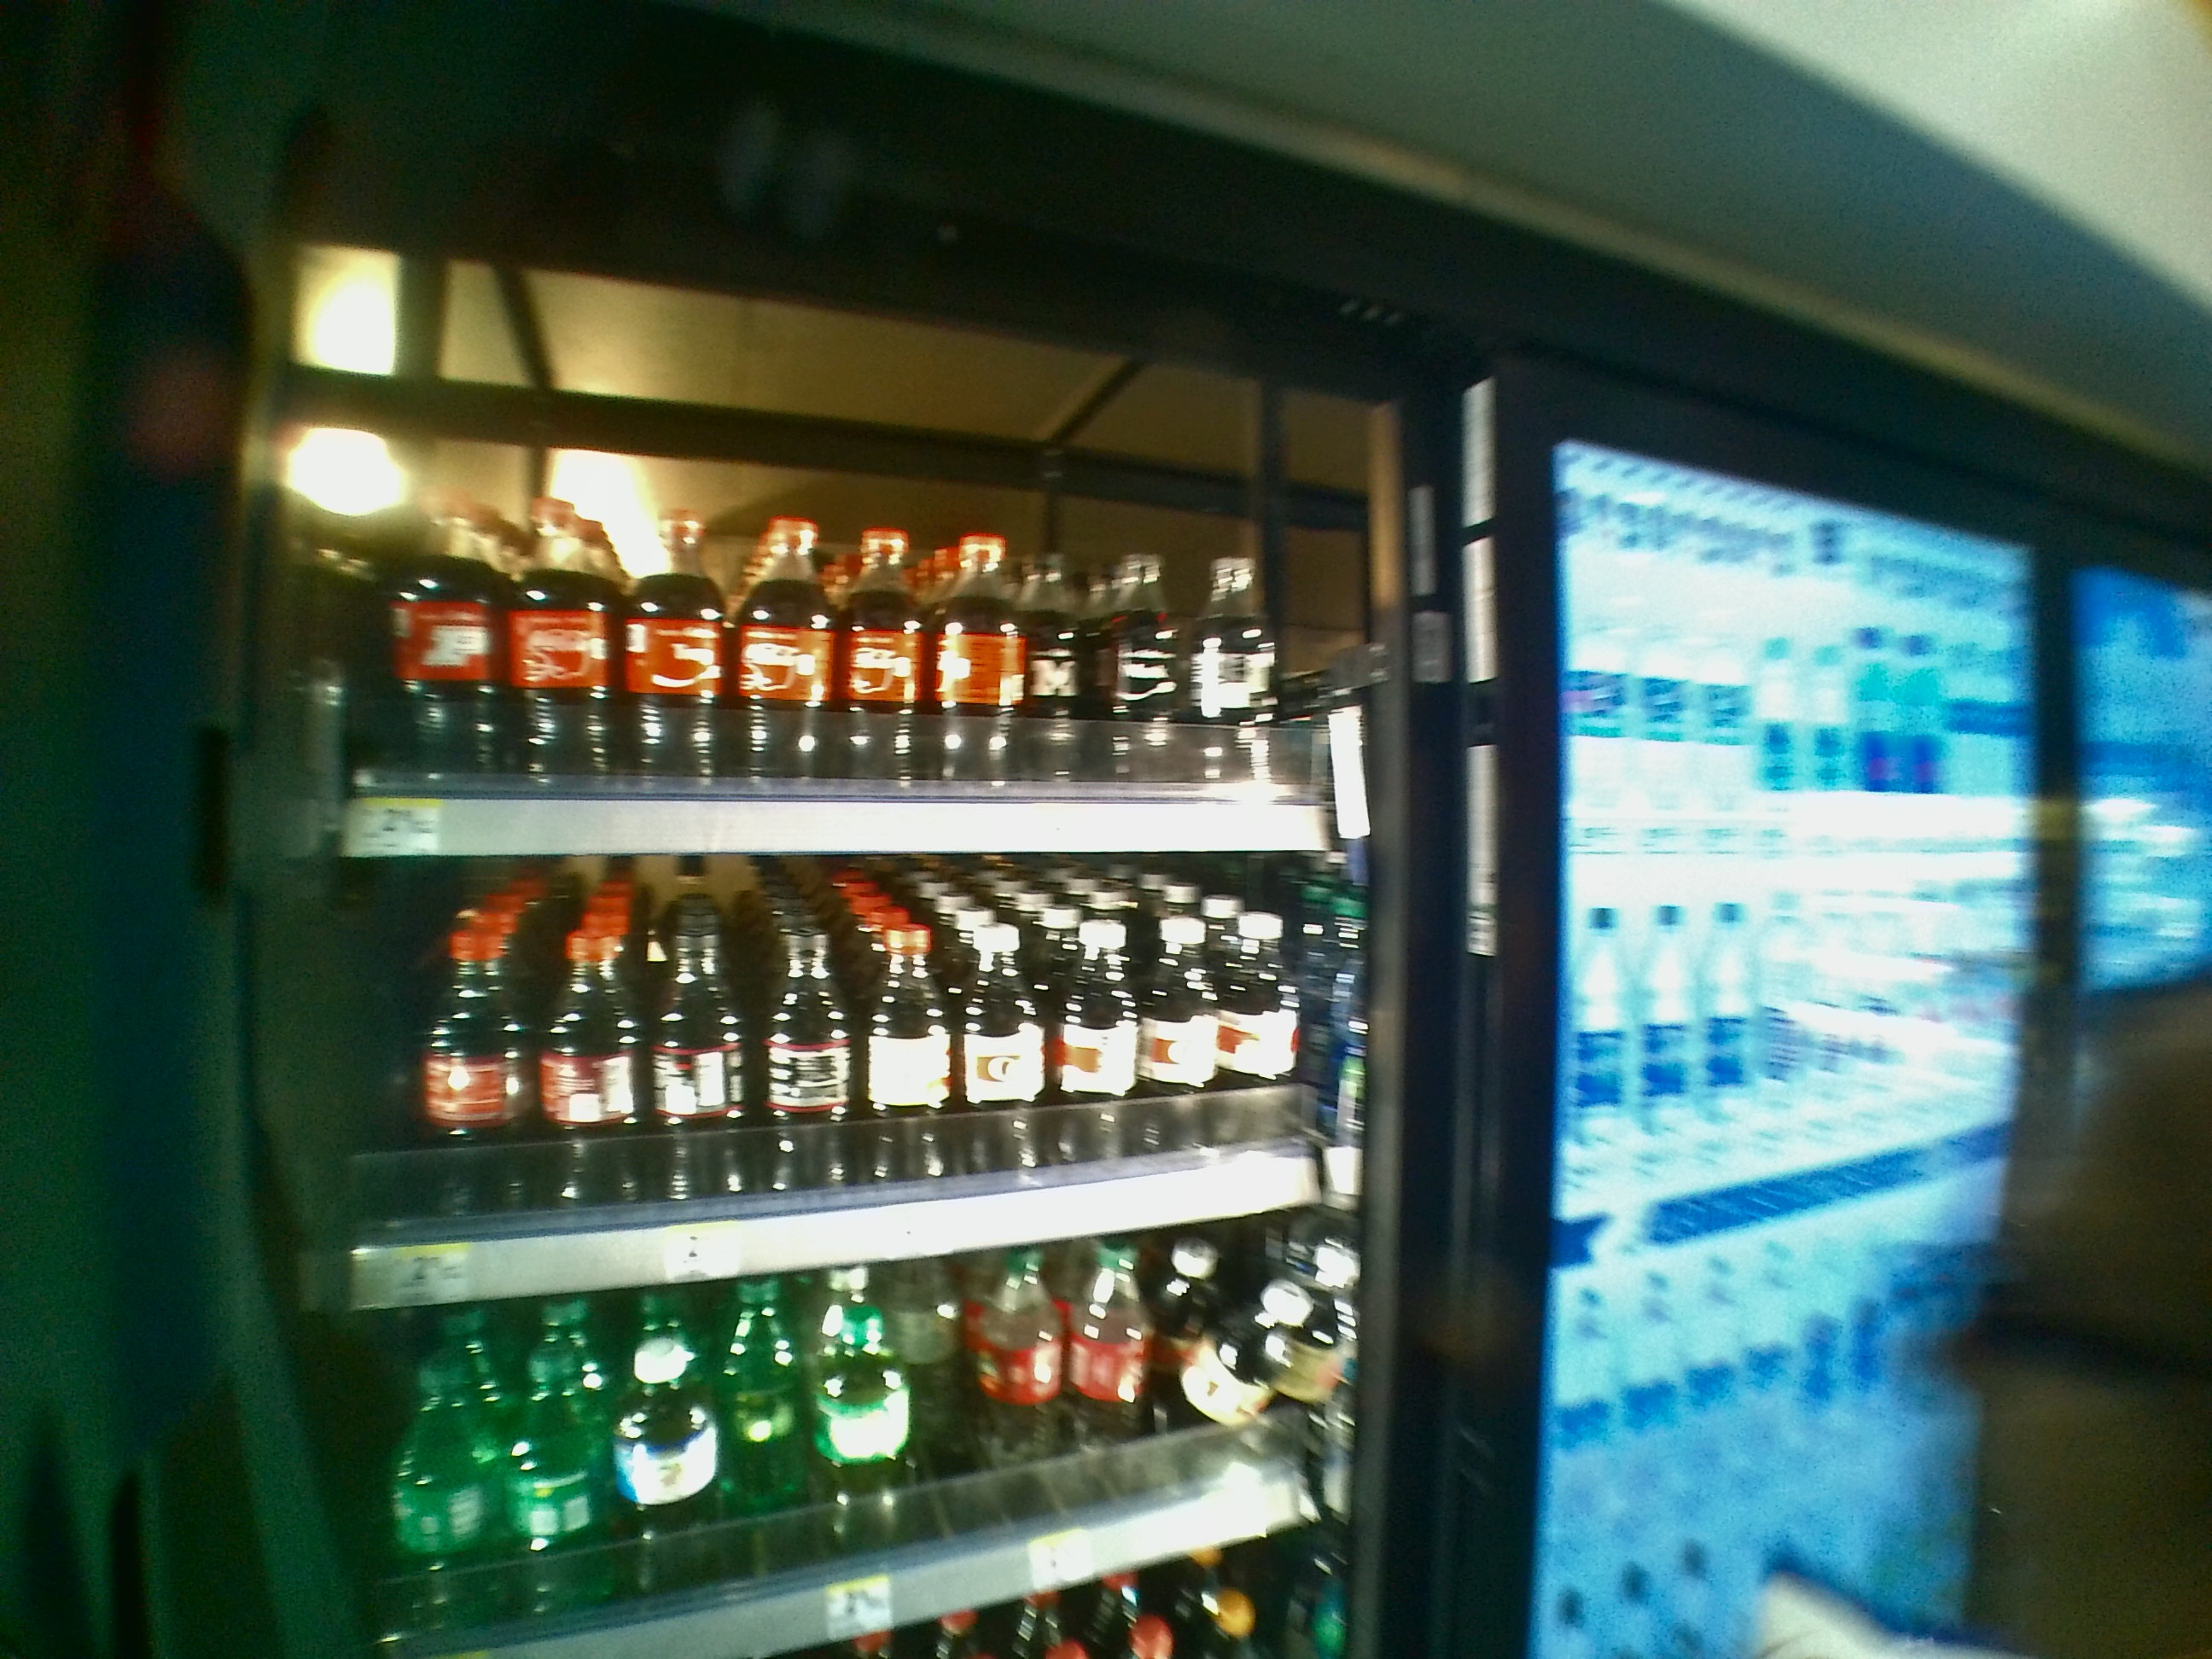shelf: (331, 291, 1404, 859), (331, 857, 1406, 1324)
